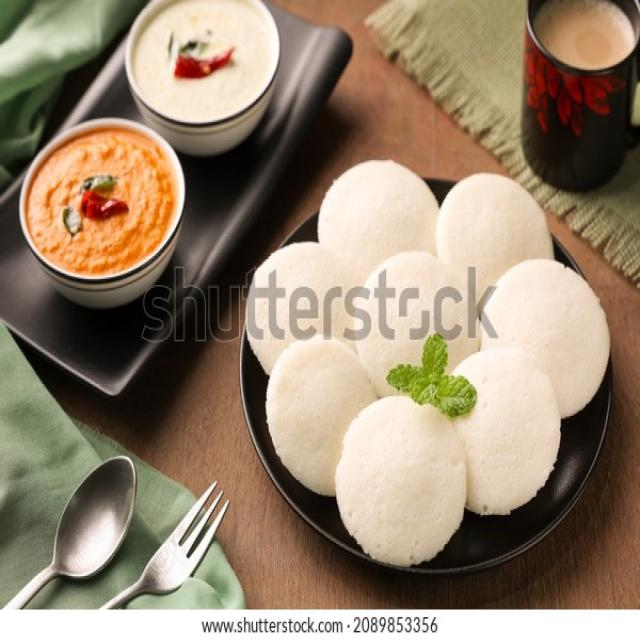IDLI: (335, 396, 466, 565), (481, 261, 609, 418), (452, 350, 560, 514), (267, 338, 378, 495), (436, 174, 553, 300), (246, 242, 352, 373), (319, 160, 437, 277)
